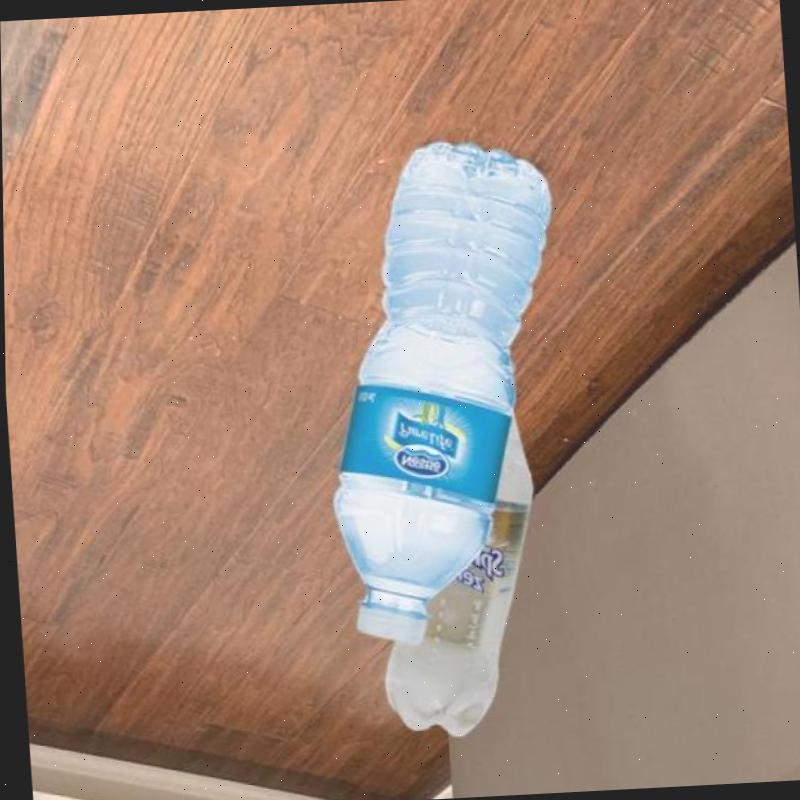botella: (304, 134, 581, 647), (361, 395, 551, 739)
